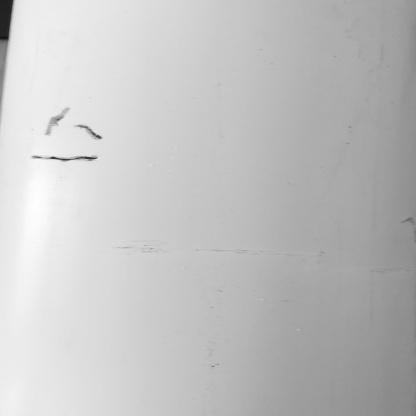sunshang: (38, 106, 118, 143), (23, 147, 126, 170)
